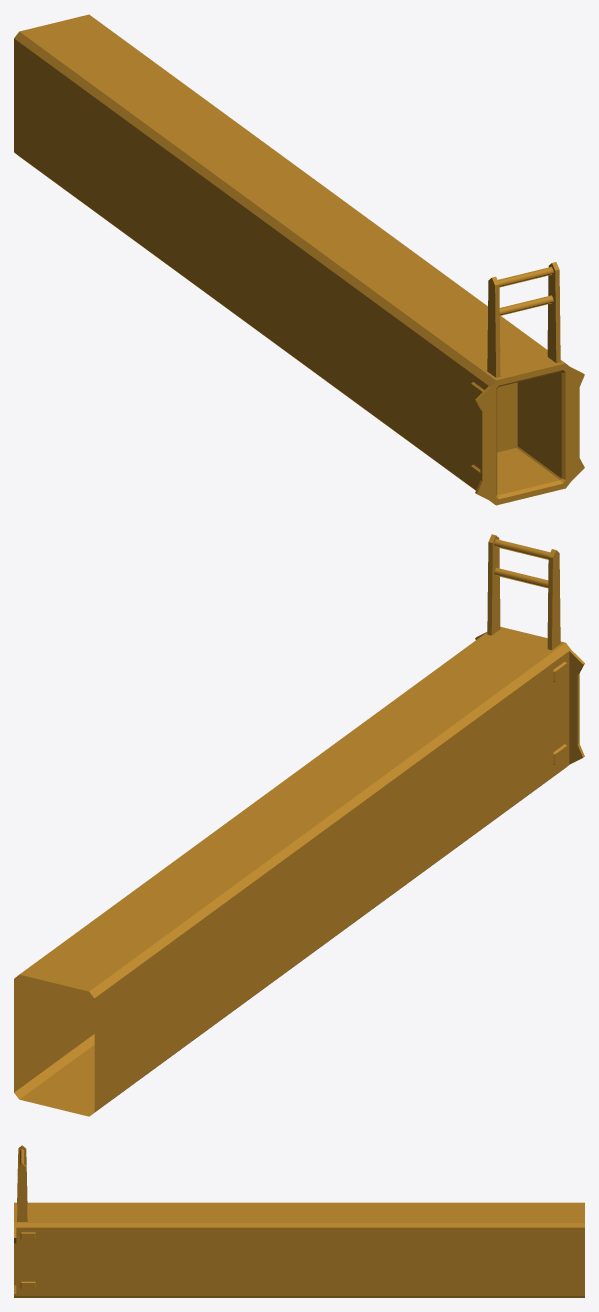
The model's file is MobileCrane_Arm_02a_snaps005.fbx.
3 views of the same model, one above another, from view 1: azimuth 30°, elevation 25°; view 2: azimuth 150°, elevation 25°; view 3: azimuth 270°, elevation 25° (orthographic). The views are drawn at different scales.
Parts seen in each view (by area): view 1: crane_arm02; view 2: crane_arm02; view 3: crane_arm02.
Part boxes in pixels (x1,y1,x2,y2): crane_arm02: (14,14,584,505); crane_arm02: (14,534,584,1116); crane_arm02: (14,1145,584,1297).
Bounding box in the file's own units: 72.35 × 142 × 553.
